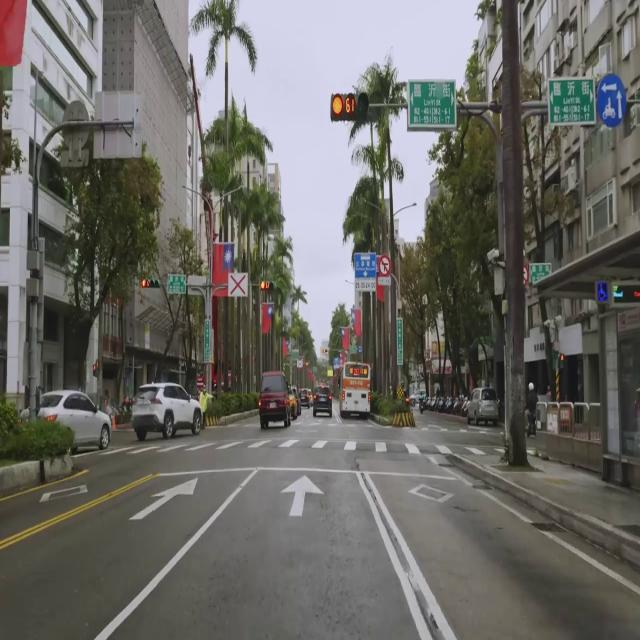red light: (331, 93, 368, 119), (140, 276, 160, 288), (260, 280, 275, 292)
